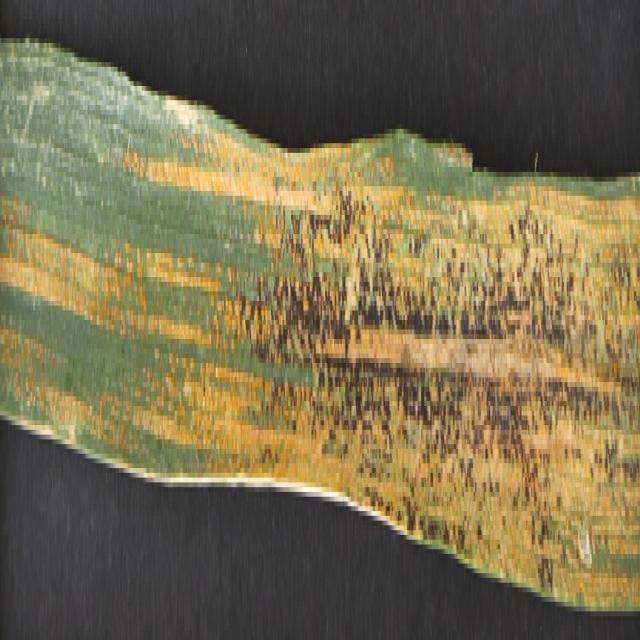leaf rust: (1, 67, 262, 473)
